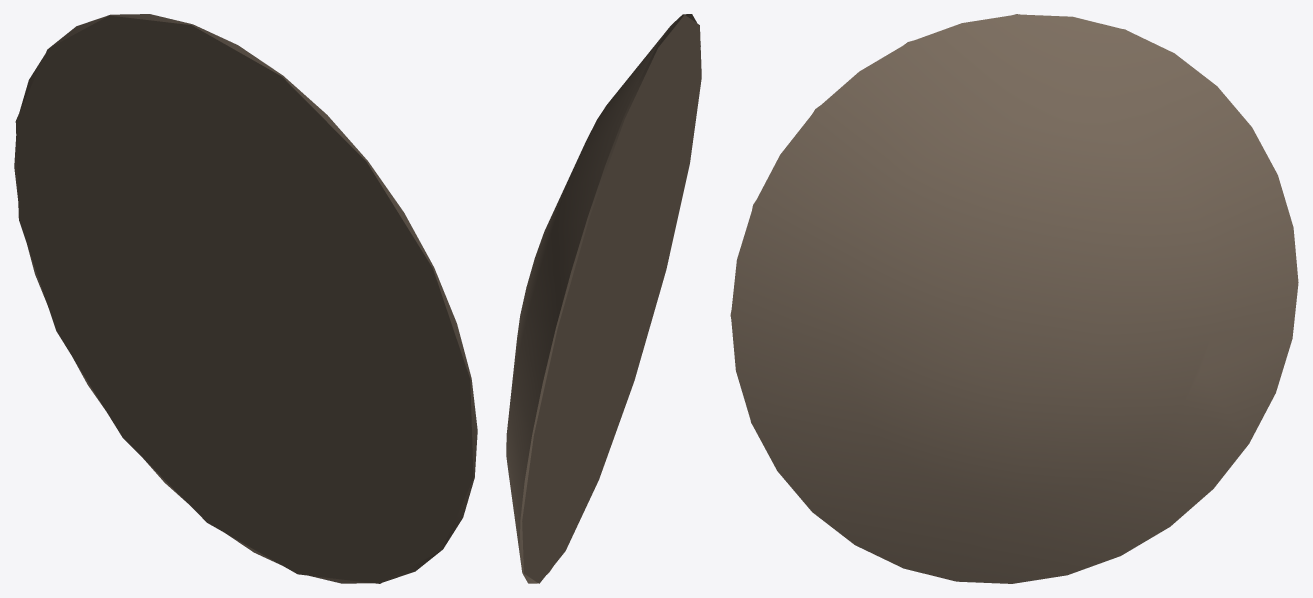
Rendered from xion_shield_small_round_arm_left.dae.
3 renders of one model, left to right at view 1: azimuth 30°, elevation 25°; view 2: azimuth 150°, elevation 25°; view 3: azimuth 270°, elevation 25°, orthographic. The views are drawn at different scales.
Visible parts, largest first — view 1: Plano_001_001_007; view 2: Plano_001_001_007; view 3: Plano_001_001_007.
Part boxes in pixels (x1=…): Plano_001_001_007: x1=14, y1=14, x2=477, y2=583; Plano_001_001_007: x1=506, y1=14, x2=701, y2=583; Plano_001_001_007: x1=730, y1=14, x2=1298, y2=583.
Bounding box in the file's own units: 0.2856 × 0.821 × 0.8352.
